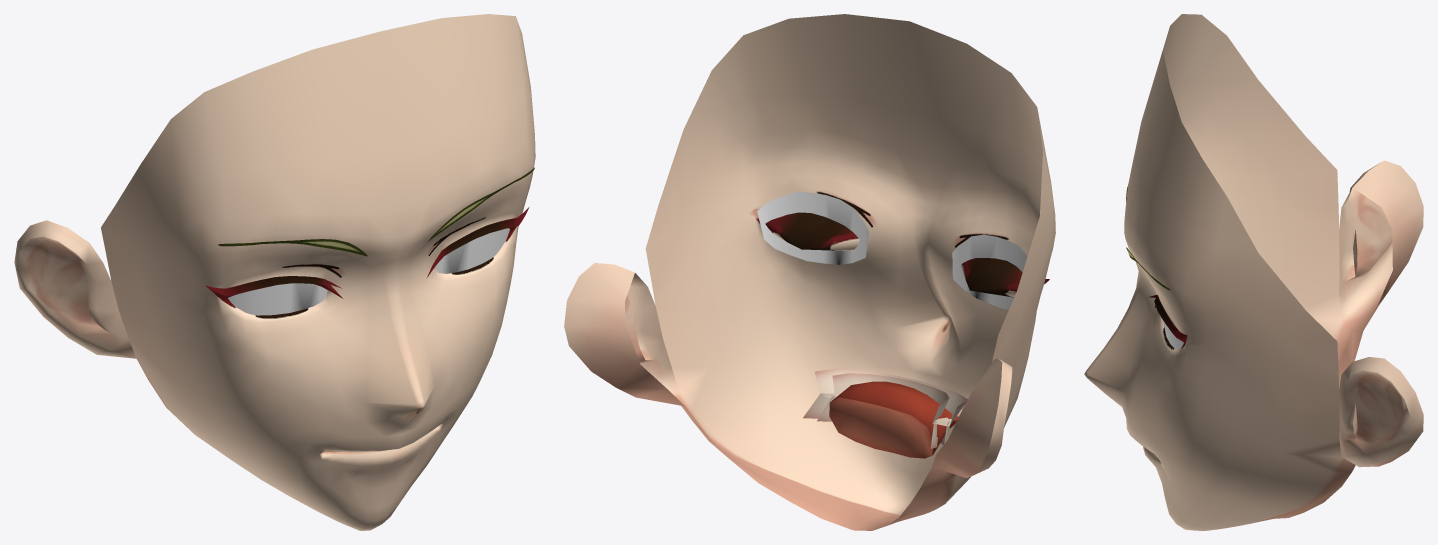
File: Hiyori.fbx
3 views of the same model, side by side, from view 1: azimuth 30°, elevation 25°; view 2: azimuth 150°, elevation 25°; view 3: azimuth 270°, elevation 25° (orthographic). The views are drawn at different scales.
Visible parts, largest first — view 1: M_Head, M_Eye_B_Def, M_Mth_B_Def, M_PupALL_R_A_Def, M_PupALL_L_A_Def, M_Brw_B_Def; view 2: M_Head, M_Eye_B_Def, M_Mth_B_Def, M_PupALL_L_A_Def, M_PupALL_R_A_Def; view 3: M_Head, M_Eye_B_Def, M_Mth_B_Def.
Part boxes in pixels (box(x1,y1,x2,y2)): M_Head: box(14, 14, 534, 396); M_Eye_B_Def: box(153, 135, 535, 411); M_Mth_B_Def: box(137, 355, 491, 530); M_PupALL_R_A_Def: box(228, 283, 327, 315); M_PupALL_L_A_Def: box(435, 228, 509, 273); M_Brw_B_Def: box(218, 167, 534, 256); M_Head: box(564, 14, 1055, 478); M_Eye_B_Def: box(695, 129, 1055, 413); M_Mth_B_Def: box(679, 318, 1016, 530); M_PupALL_L_A_Def: box(757, 191, 869, 264); M_PupALL_R_A_Def: box(952, 234, 1027, 309); M_Head: box(1126, 14, 1423, 467); M_Eye_B_Def: box(1084, 116, 1244, 449); M_Mth_B_Def: box(1085, 319, 1363, 530).
Bounding box in the file's own units: 0.1645 × 0.172 × 0.1108.
5 materials, 3 textured.
